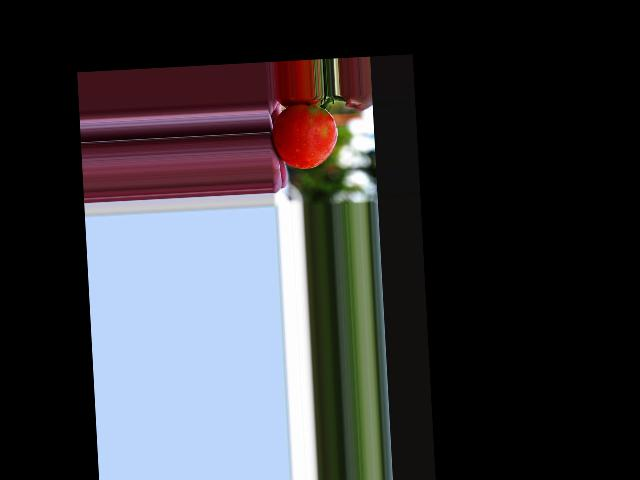tomato: (270, 103, 339, 170)
